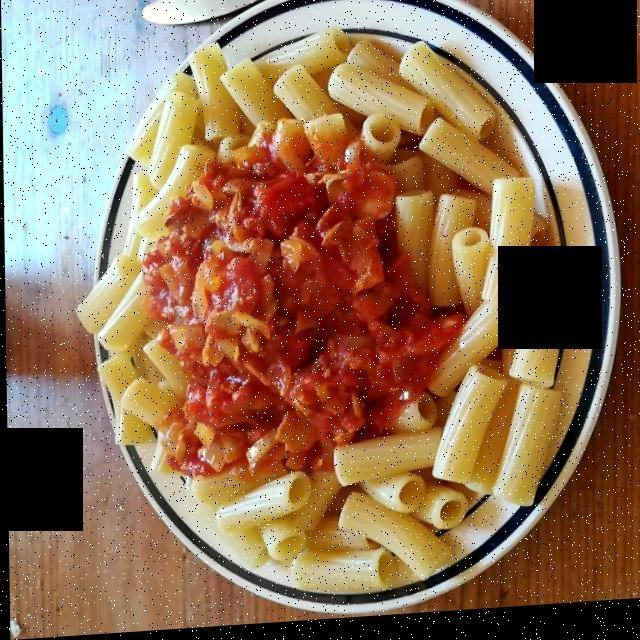pasta: (86, 46, 555, 581)
tomato-sauce: (129, 129, 449, 473)
